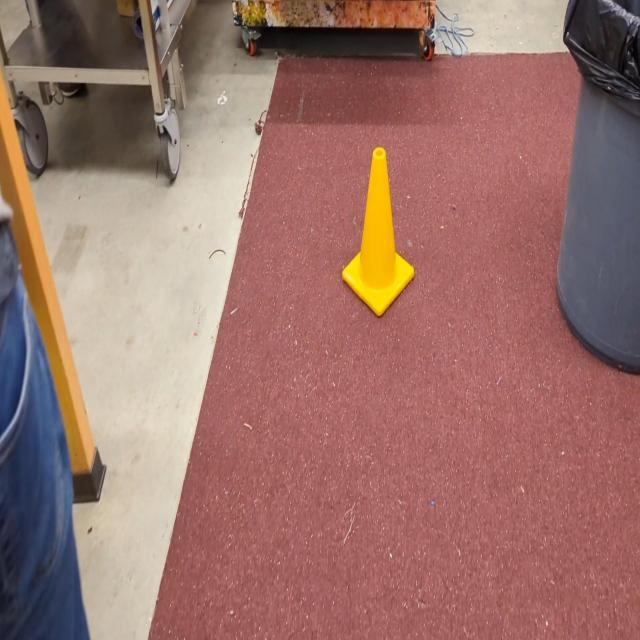frc_cone: (340, 146, 416, 316)
